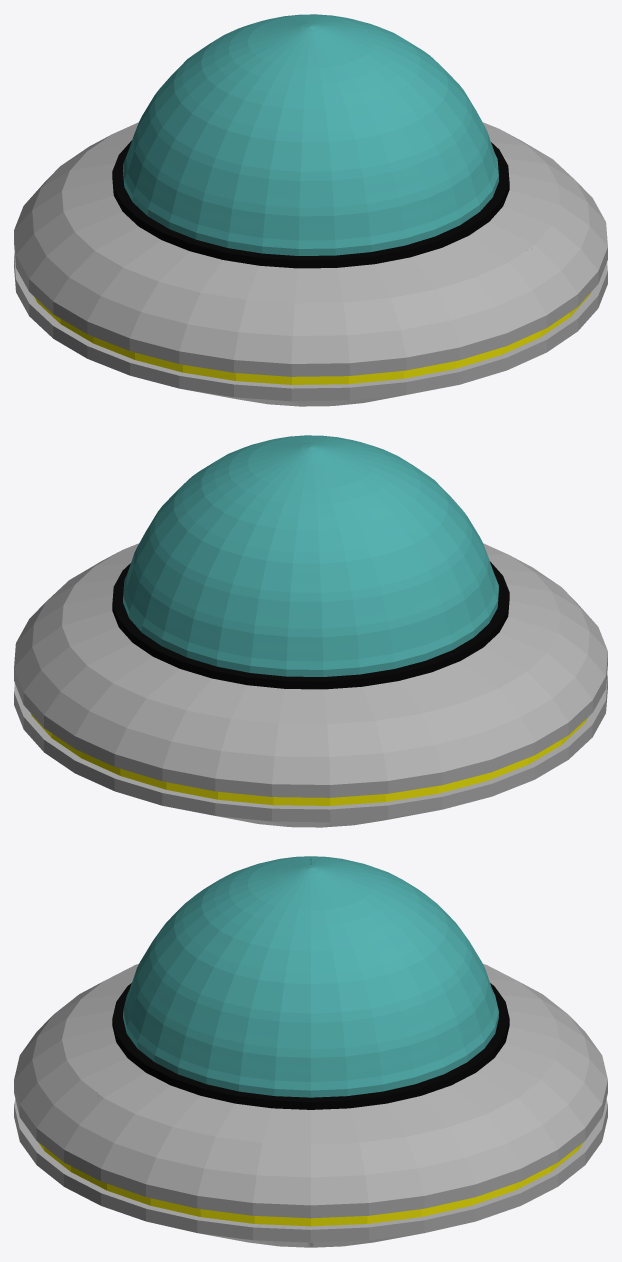
File: OVNI.fbx
3 renders of one model, top to bottom at view 1: azimuth 30°, elevation 25°; view 2: azimuth 150°, elevation 25°; view 3: azimuth 270°, elevation 25°, orthographic.
Visible parts, largest first — view 1: OVNI; view 2: OVNI; view 3: OVNI.
Boxes of the visible parts, box(x1,y1,x2,y2) form: OVNI: box(14, 14, 607, 406); OVNI: box(14, 435, 607, 827); OVNI: box(14, 856, 607, 1247).
Size of the model in its own units: 3.61 by 3.61 by 2.08.
